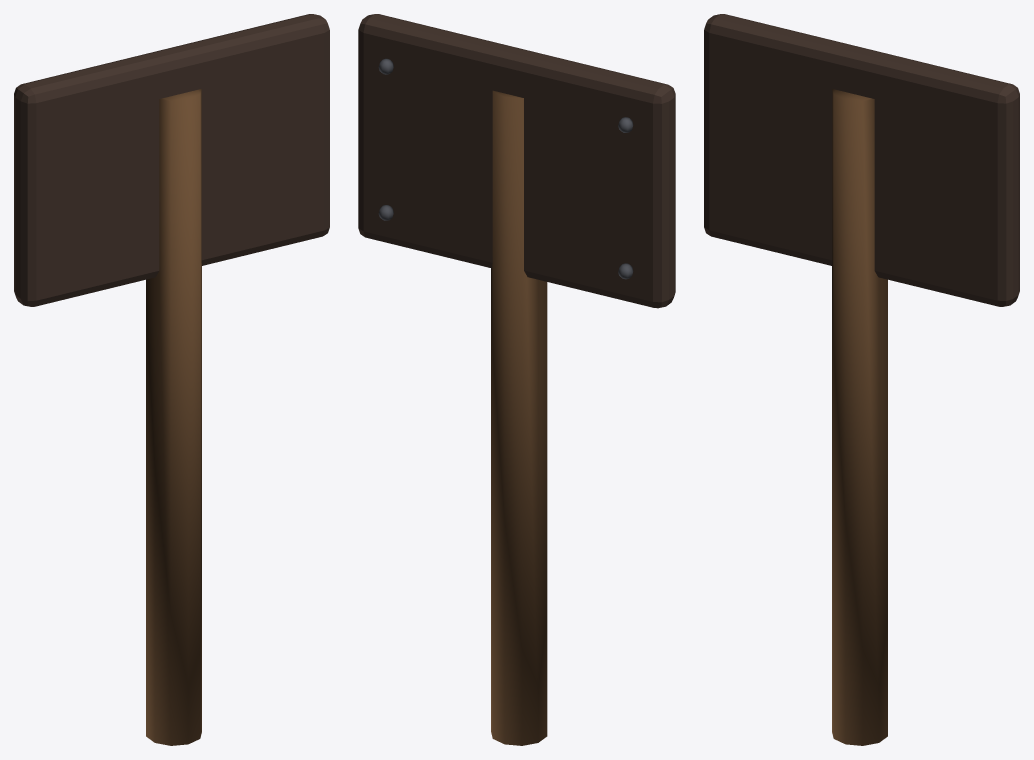
Rendered from prop_signpost.glb.
The picture shows the model from 3 angles, left to right: view 1: azimuth 30°, elevation 25°; view 2: azimuth 150°, elevation 25°; view 3: azimuth 330°, elevation 25°; orthographic projection.
Parts seen in each view (by area): view 1: prop_signpost; view 2: prop_signpost; view 3: prop_signpost.
Boxes of the visible parts, x1,y1,x2,y2 form: prop_signpost: (14,14,329,745); prop_signpost: (358,14,675,745); prop_signpost: (704,14,1019,745).
Size of the model in its own units: 0.62 by 1.31 by 0.109.
